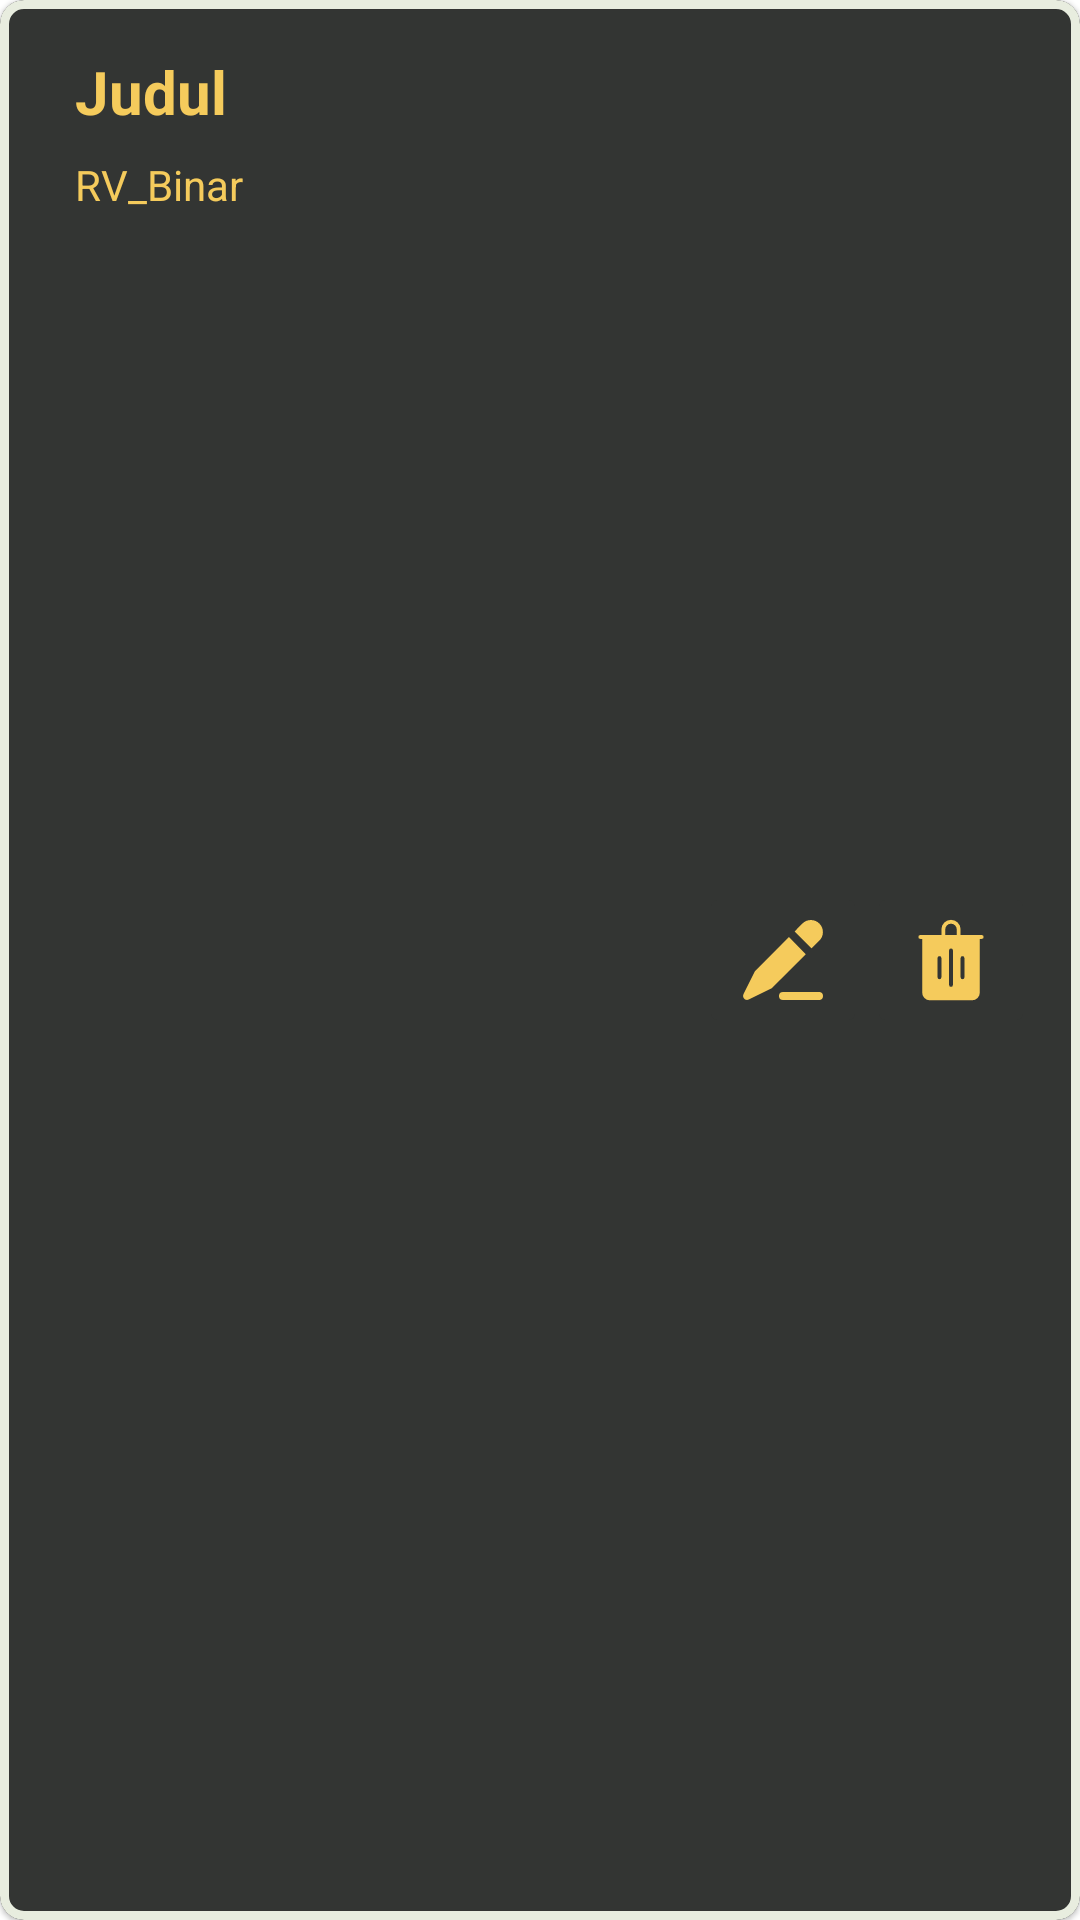

Where to tap for icons on this 1080 x 1920 app screen, as point (x, y):
delete: point (951, 960)
edit: point (783, 960)
